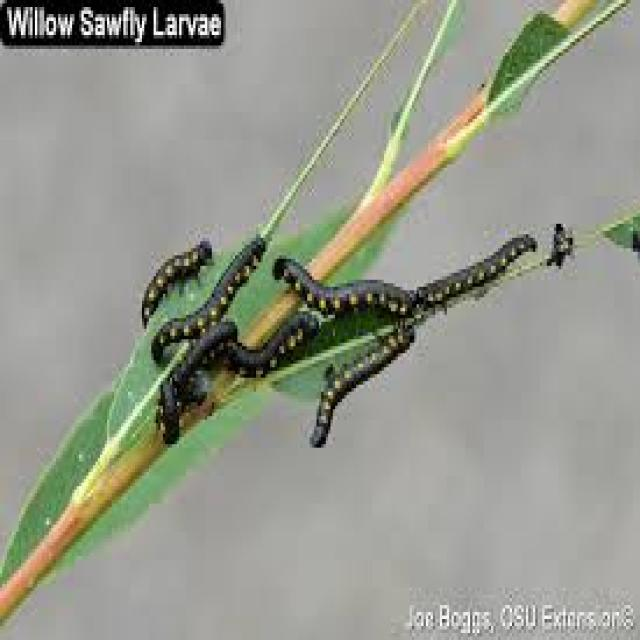Saw Fly: (149, 232, 272, 355), (307, 327, 418, 451), (156, 317, 239, 451), (416, 224, 541, 312), (269, 252, 410, 315), (200, 310, 328, 374), (136, 238, 217, 322)
